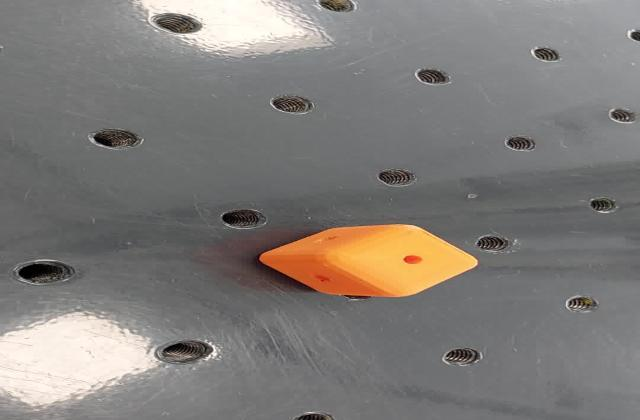cube: (250, 222, 484, 301)
